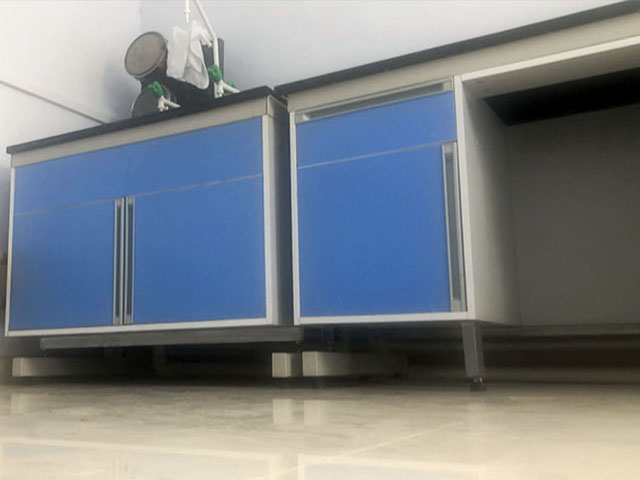cabinet: (1, 80, 293, 380), (275, 37, 488, 380)
